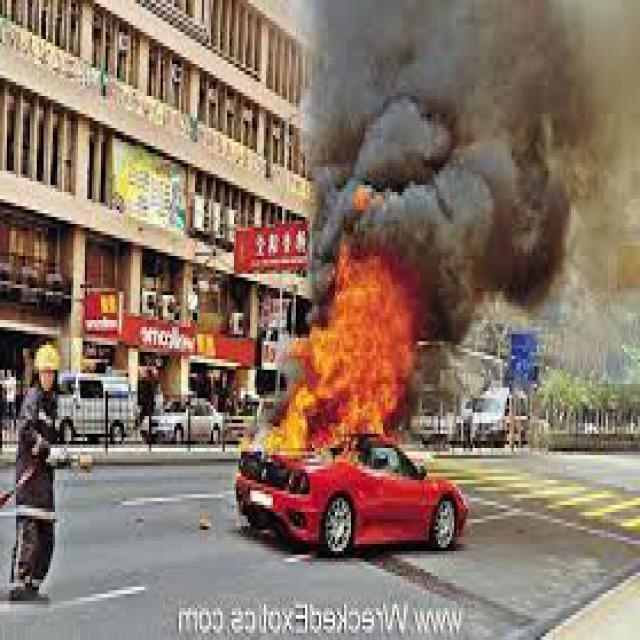Fire: (258, 286, 426, 460)
Smoke: (334, 18, 590, 246)
